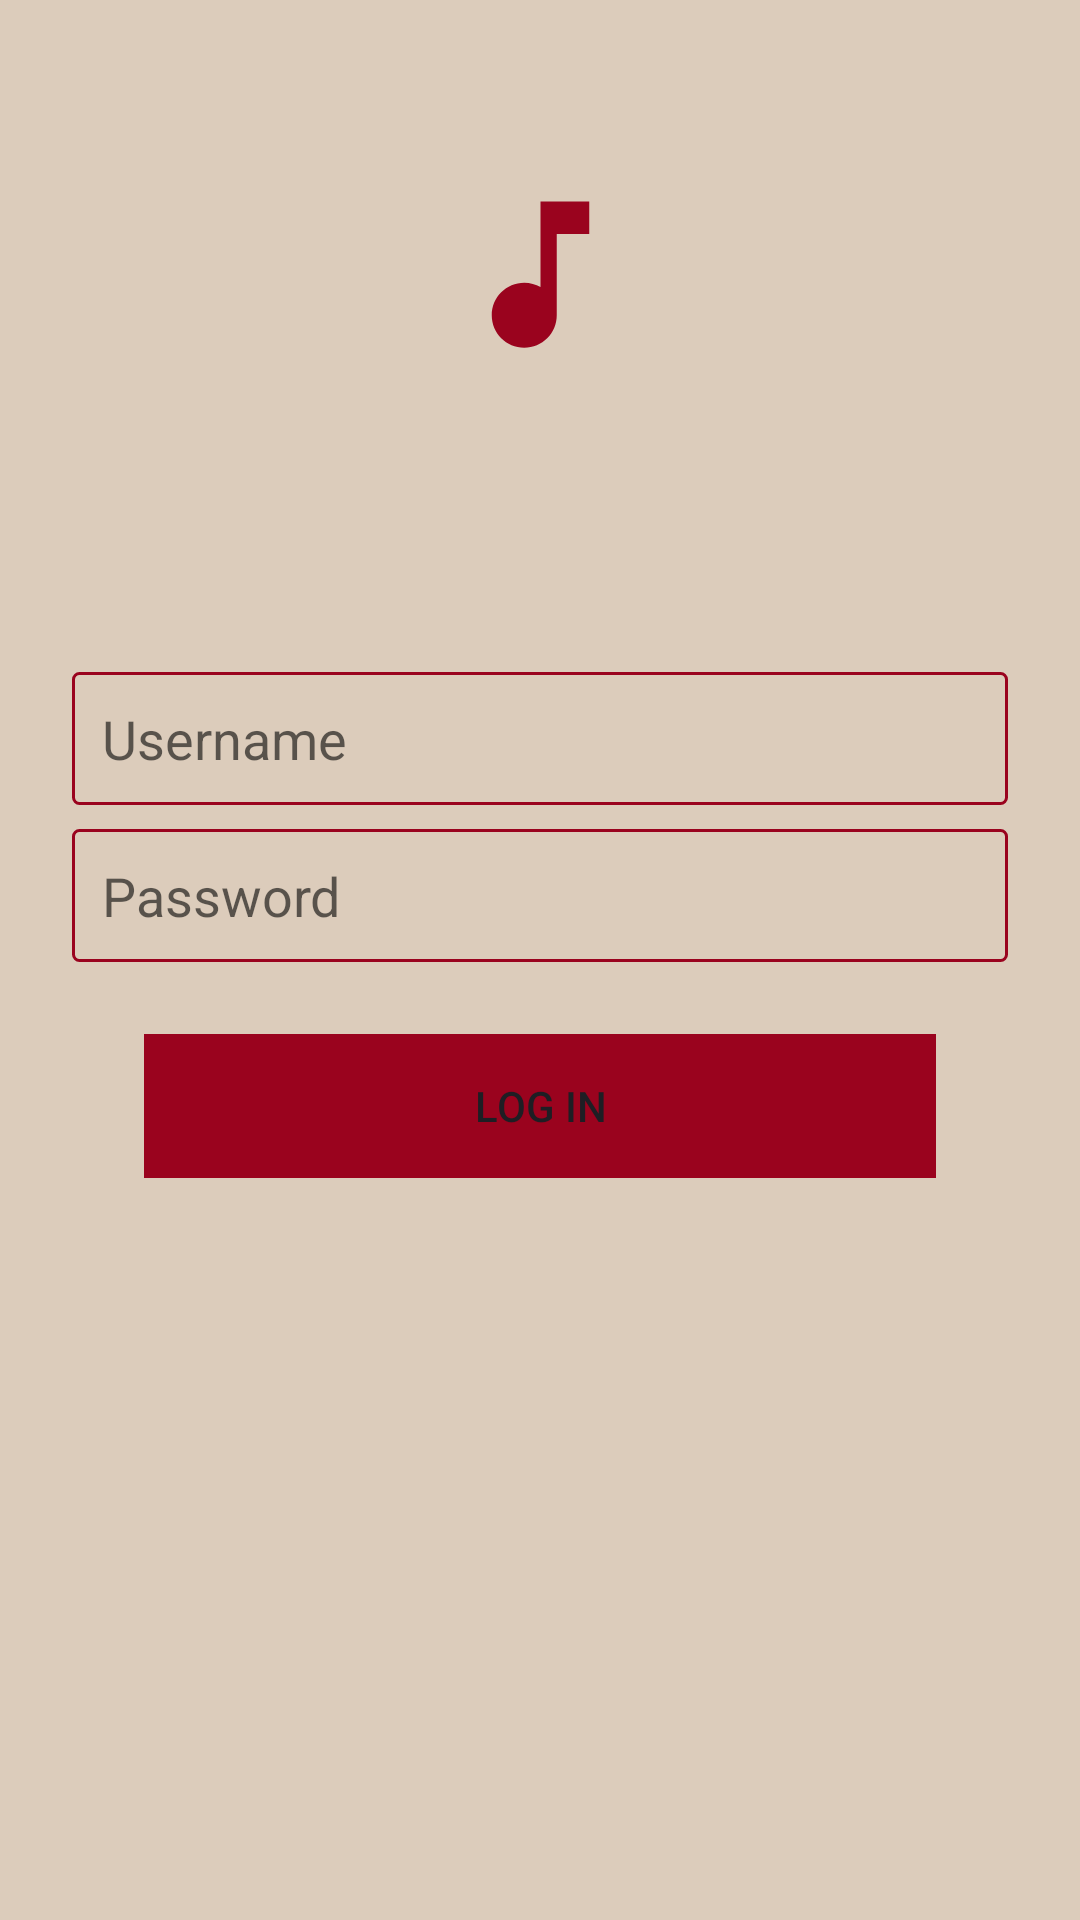

Named icons in this screenshot (1080w x 1920h) and their centers, (x,y):
music note: (540,274)
